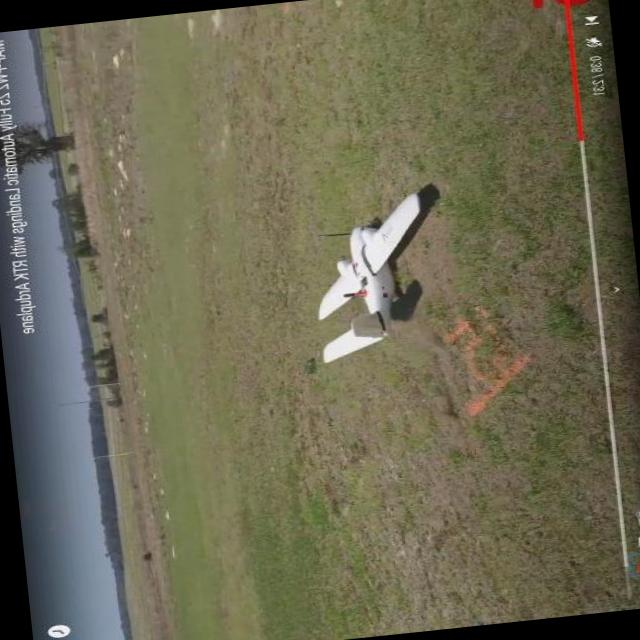UAV: (307, 202, 458, 384)
